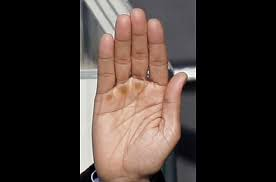palm: (100, 89, 168, 173)
